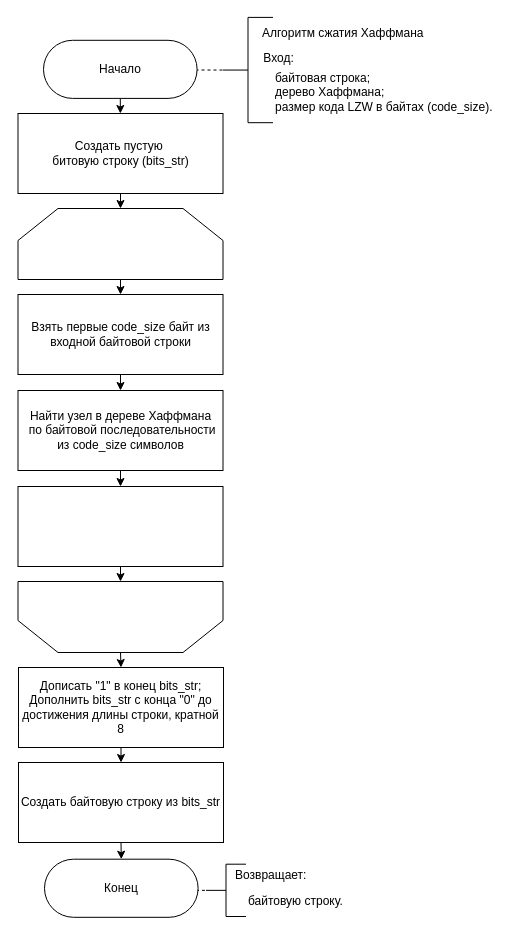
This 530x935 diagram has some shape labels left out. The shapes that lost their labels are listed below. From the top down, each one's box as (x1, y1, x2, y2) in pixels, then its label:
(17, 208, 223, 280): Пока байтовая строка не пуста
(17, 486, 223, 566): Добавить к строке bits_str значение найденного узла
(17, 580, 223, 652): Конец цикла по байтовой строке
